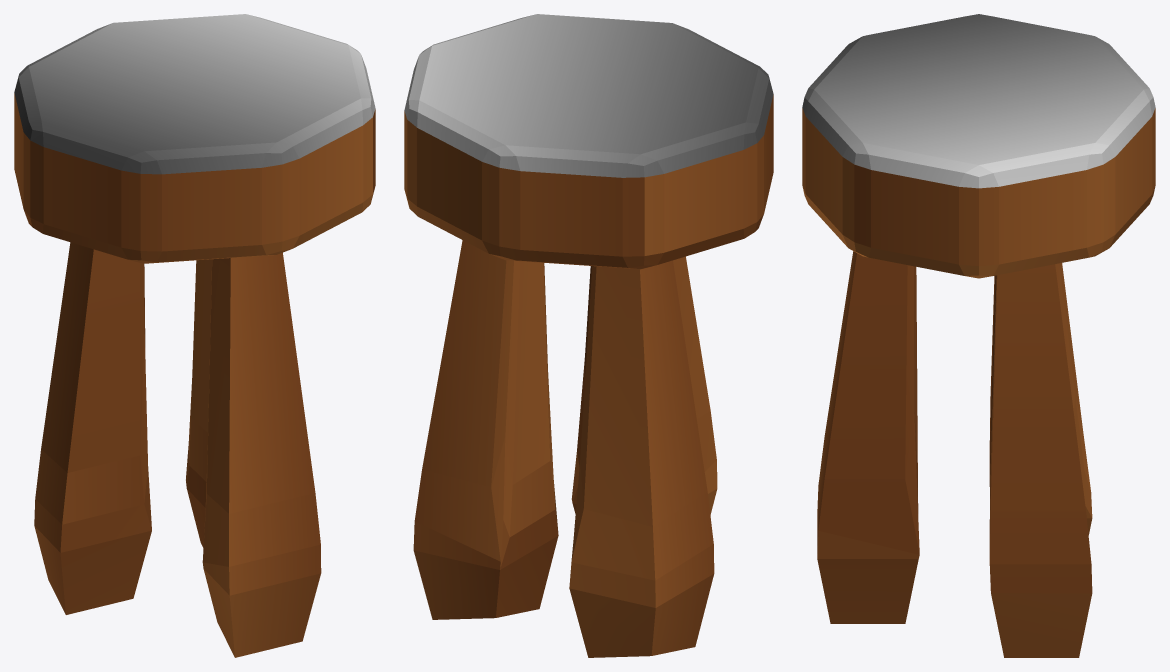
The model's file is Stool-1.glb.
3 renders of one model, left to right at view 1: azimuth 30°, elevation 25°; view 2: azimuth 150°, elevation 25°; view 3: azimuth 270°, elevation 25°, orthographic. The views are drawn at different scales.
Parts seen in each view (by area): view 1: Stool-1; view 2: Stool-1; view 3: Stool-1.
Part boxes in pixels (x1,y1,x2,y2): Stool-1: (14,14,375,657); Stool-1: (404,14,773,657); Stool-1: (802,14,1155,657).
Size of the model in its own units: 0.3551 by 0.5289 by 0.3272.
Materials: 1 (1 with a texture image).
